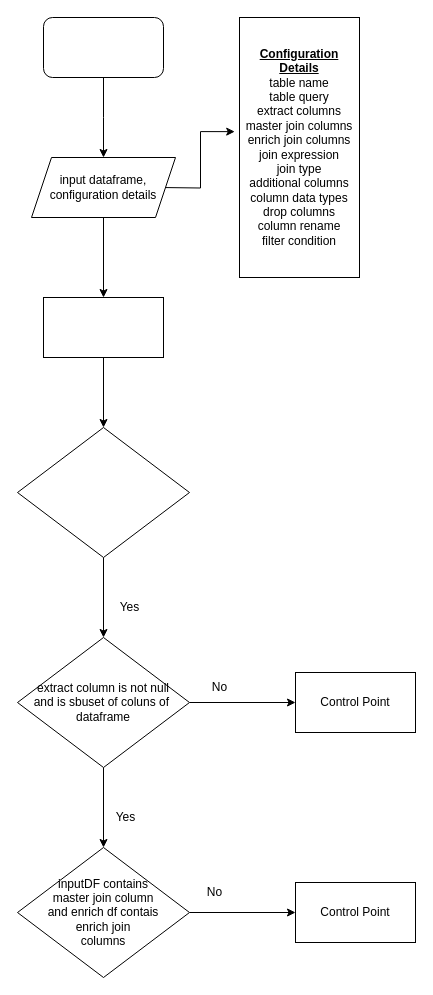
The diagram is 433 pixels wide and 995 high, and some of its shapes have lost their labels. The box of each missing label's shape, as (x1, y1, x2, y2) in pixels:
filter the dataframe using filter condition: (42, 296, 164, 358)
Start: (42, 16, 164, 78)
status = 'active' and (table query or name is not null): (16, 426, 190, 558)
